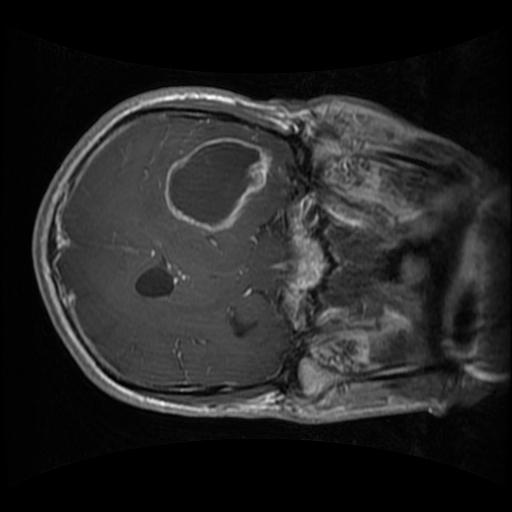glioma: (163, 137, 274, 235)
